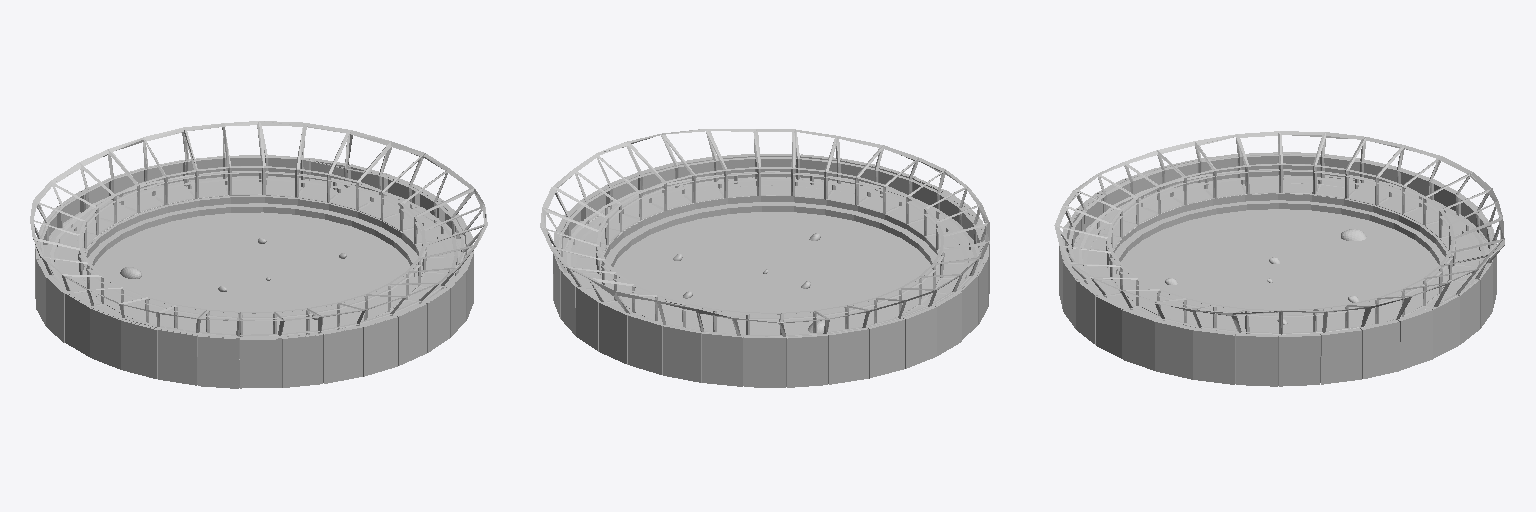
File: arena.obj
The picture shows the model from 3 angles: view 1: azimuth 30°, elevation 25°; view 2: azimuth 150°, elevation 25°; view 3: azimuth 270°, elevation 25°; orthographic projection.
Parts seen in each view (by area): view 1: Cylinder, Cylinder.002, Cylinder.001, Cylinder.003; view 2: Cylinder, Cylinder.002, Cylinder.001, Cylinder.003; view 3: Cylinder, Cylinder.002, Cylinder.001, Cylinder.003.
Part boxes in pixels (left/top/right/bottom): Cylinder: left=35, top=155, right=473, bottom=388; Cylinder.002: left=90, top=212, right=414, bottom=336; Cylinder.001: left=30, top=121, right=487, bottom=336; Cylinder.003: left=50, top=171, right=457, bottom=302; Cylinder: left=553, top=154, right=989, bottom=387; Cylinder.002: left=610, top=212, right=932, bottom=334; Cylinder.001: left=540, top=129, right=989, bottom=337; Cylinder.003: left=567, top=171, right=976, bottom=287; Cylinder: left=1059, top=152, right=1496, bottom=386; Cylinder.002: left=1117, top=209, right=1438, bottom=334; Cylinder.001: left=1054, top=131, right=1504, bottom=334; Cylinder.003: left=1079, top=169, right=1485, bottom=299.
Bounding box in the file's own units: 11.52 × 2.24 × 11.53.